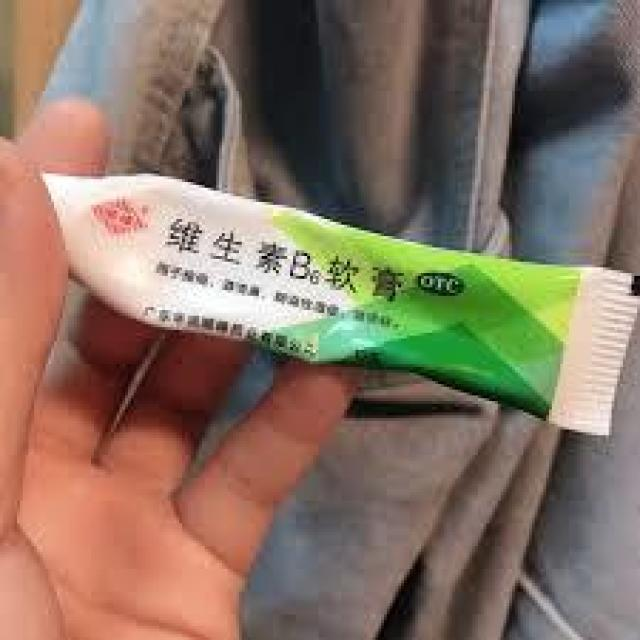-Hazardous waste - medicine inner packaging-: (49, 169, 640, 440)
